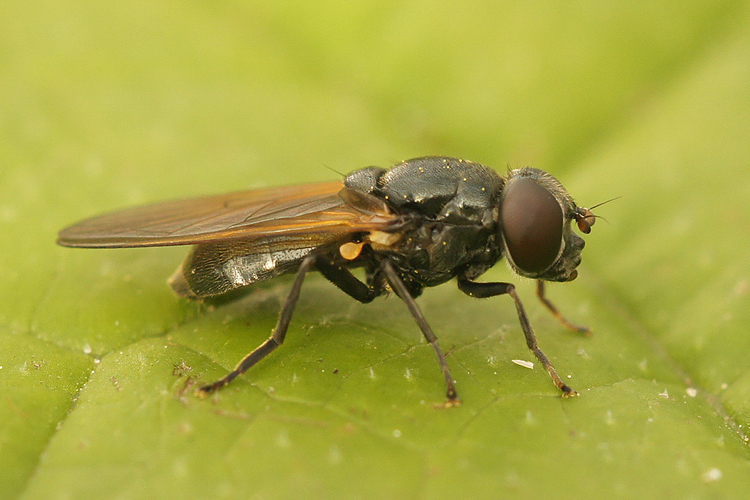not_bumblebee: (52, 154, 621, 409)
